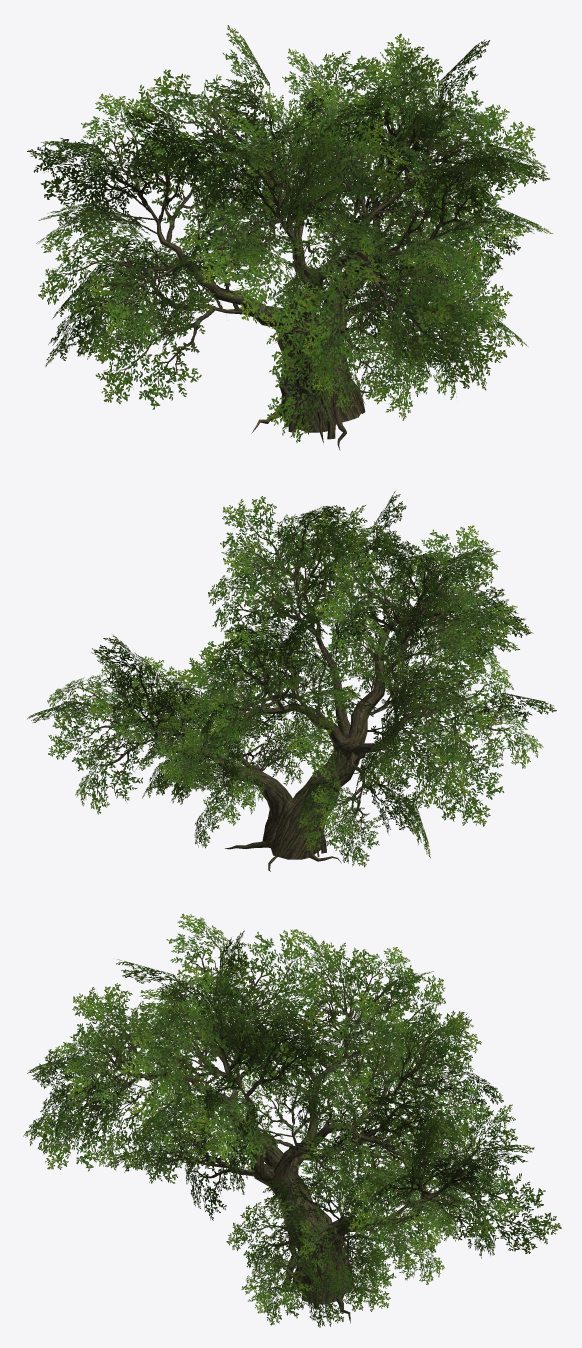
Rendered from cmc_shu08.FBX.
The picture shows the model from 3 angles, top to bottom: view 1: azimuth 30°, elevation 25°; view 2: azimuth 150°, elevation 25°; view 3: azimuth 270°, elevation 25°; orthographic projection. The views are drawn at different scales.
Visible parts, largest first — view 1: cmc_shuye_d, cmc_shugan_d; view 2: cmc_shuye_d, cmc_shugan_d; view 3: cmc_shuye_d, cmc_shugan_d.
Part boxes in pixels (<box>): cmc_shuye_d: <box>27,25,552,442</box>; cmc_shugan_d: <box>135,134,448,450</box>; cmc_shuye_d: <box>27,491,556,867</box>; cmc_shugan_d: <box>107,570,459,871</box>; cmc_shuye_d: <box>23,913,561,1327</box>; cmc_shugan_d: <box>105,1011,467,1323</box>.
Size of the model in its own units: 2655 by 1944 by 2801.
